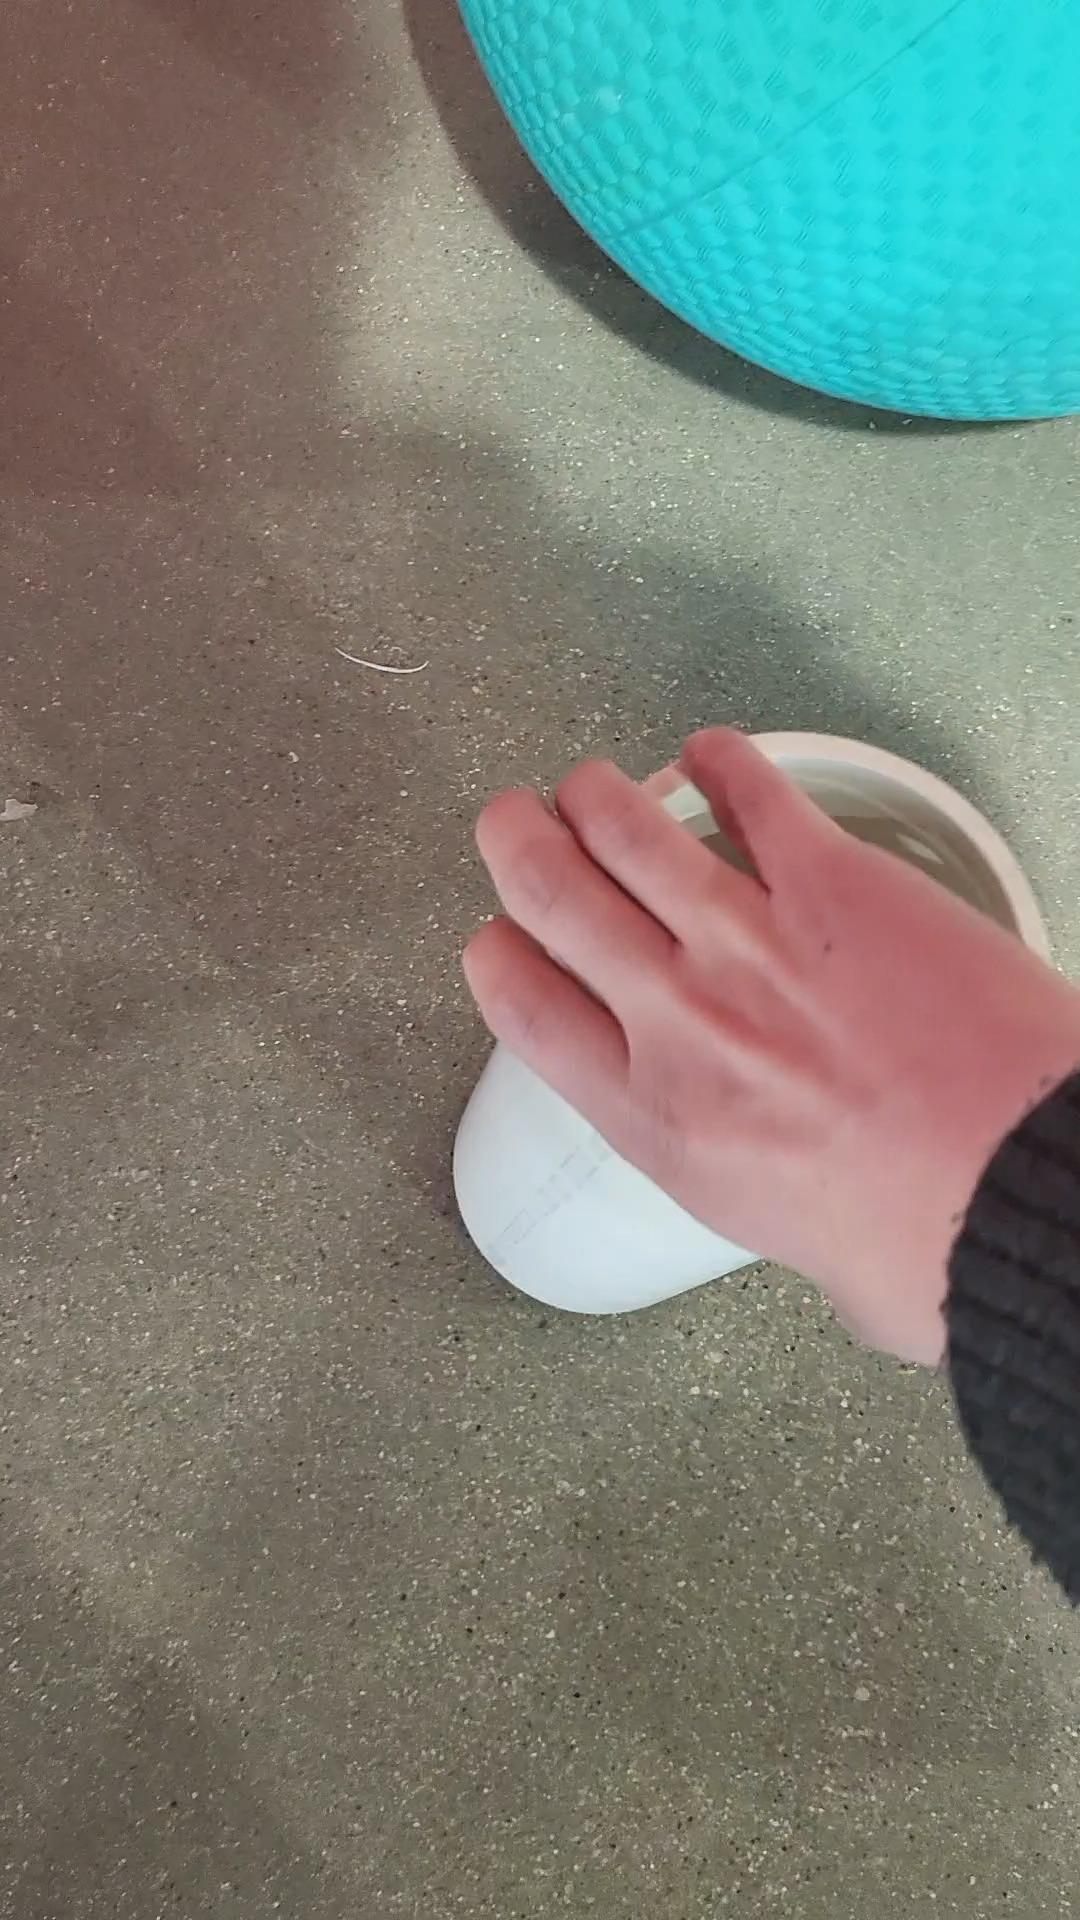algae: (456, 0, 1080, 433)
coral: (422, 727, 1038, 1320)
